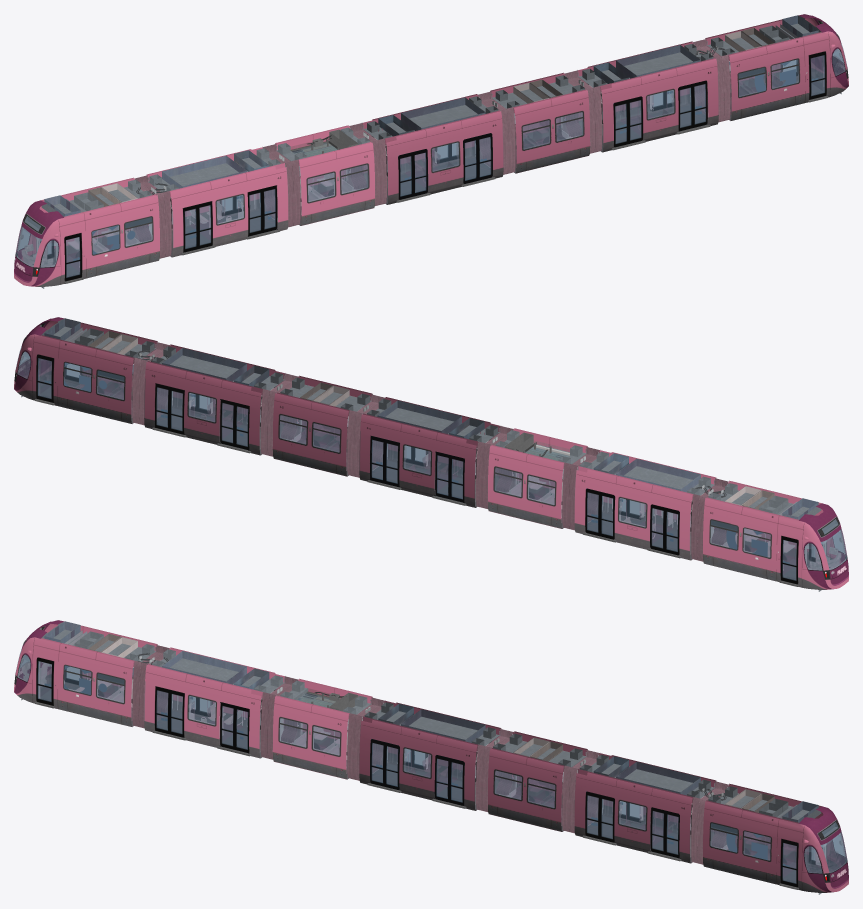
Rendered from tram_mobile.glb.
3 renders of one model, top to bottom at view 1: azimuth 30°, elevation 25°; view 2: azimuth 150°, elevation 25°; view 3: azimuth 330°, elevation 25°, orthographic.
Visible parts, largest first — view 1: glink_seg1_lod0_glink_exterior01_0, glink_seg1_lod0.001_glink_exterior02_0, glink_seg4_lod0_glink_exterior03_0, glink_seg2_lod0.001_glink_exterior02_0, glink_seg2_lod0_glink_exterior01_0, glink_seg5_lod0_glink_exterior02_0, glink_seg3_lod0_glink_exterior01_0, glink_seg1_window_lod0.001_glink_exterior01_0, glink_seg2_mirror_lod0.002_glink_exterior01_0, glink_seg2_mirror_lod0_glink_exterior01_0, glink_seg2_mirror_lod0.001_glink_exterior01_0, glink_seg1_window_lod0_glink_exterior01_0 (+13 smaller); view 2: glink_seg1_lod0_glink_exterior01_0, glink_seg1_lod0.001_glink_exterior02_0, glink_seg4_lod0_glink_exterior03_0, glink_seg2_lod0.001_glink_exterior02_0, glink_seg2_lod0_glink_exterior01_0, glink_seg5_lod0_glink_exterior02_0, glink_seg3_lod0_glink_exterior01_0, glink_seg1_window_lod0.001_glink_exterior01_0, glink_seg2_mirror_lod0.002_glink_exterior01_0, glink_seg2_mirror_lod0_glink_exterior01_0, glink_seg2_mirror_lod0.001_glink_exterior01_0, glink_seg1_window_lod0_glink_exterior01_0 (+13 smaller); view 3: glink_seg1_lod0.001_glink_exterior02_0, glink_seg1_lod0_glink_exterior01_0, glink_seg4_lod0_glink_exterior03_0, glink_seg2_lod0.001_glink_exterior02_0, glink_seg2_lod0_glink_exterior01_0, glink_seg5_lod0_glink_exterior02_0, glink_seg3_lod0_glink_exterior01_0, glink_seg1_window_lod0_glink_exterior01_0, glink_seg2_mirror_lod0.002_glink_exterior01_0, glink_seg2_mirror_lod0.001_glink_exterior01_0, glink_seg2_mirror_lod0_glink_exterior01_0, glink_seg1_window_lod0.001_glink_exterior01_0 (+13 smaller).
Boxes of the visible parts, left/top/right/bottom form: glink_seg1_lod0_glink_exterior01_0: left=14, top=177, right=159, bottom=286; glink_seg1_lod0.001_glink_exterior02_0: left=705, top=14, right=848, bottom=120; glink_seg4_lod0_glink_exterior03_0: left=362, top=94, right=503, bottom=204; glink_seg2_lod0.001_glink_exterior02_0: left=578, top=41, right=718, bottom=152; glink_seg2_lod0_glink_exterior01_0: left=146, top=147, right=288, bottom=257; glink_seg5_lod0_glink_exterior02_0: left=490, top=72, right=590, bottom=173; glink_seg3_lod0_glink_exterior01_0: left=275, top=125, right=374, bottom=225; glink_seg1_window_lod0.001_glink_exterior01_0: left=15, top=216, right=152, bottom=267; glink_seg2_mirror_lod0.002_glink_exterior01_0: left=348, top=93, right=508, bottom=204; glink_seg2_mirror_lod0_glink_exterior01_0: left=564, top=40, right=724, bottom=152; glink_seg2_mirror_lod0.001_glink_exterior01_0: left=133, top=145, right=293, bottom=257; glink_seg1_window_lod0_glink_exterior01_0: left=729, top=43, right=847, bottom=96; glink_seg1_lod0_glink_exterior01_0: left=703, top=480, right=848, bottom=589; glink_seg1_lod0.001_glink_exterior02_0: left=14, top=317, right=157, bottom=423; glink_seg4_lod0_glink_exterior03_0: left=359, top=397, right=500, bottom=507; glink_seg2_lod0.001_glink_exterior02_0: left=144, top=344, right=284, bottom=455; glink_seg2_lod0_glink_exterior01_0: left=574, top=450, right=716, bottom=560; glink_seg5_lod0_glink_exterior02_0: left=272, top=375, right=372, bottom=476; glink_seg3_lod0_glink_exterior01_0: left=488, top=428, right=587, bottom=528; glink_seg1_window_lod0.001_glink_exterior01_0: left=710, top=519, right=847, bottom=570; glink_seg2_mirror_lod0.002_glink_exterior01_0: left=354, top=396, right=514, bottom=507; glink_seg2_mirror_lod0_glink_exterior01_0: left=139, top=343, right=298, bottom=455; glink_seg2_mirror_lod0.001_glink_exterior01_0: left=569, top=448, right=727, bottom=560; glink_seg1_window_lod0_glink_exterior01_0: left=15, top=345, right=133, bottom=399; glink_seg1_lod0.001_glink_exterior02_0: left=703, top=783, right=848, bottom=892; glink_seg1_lod0_glink_exterior01_0: left=14, top=620, right=157, bottom=726; glink_seg4_lod0_glink_exterior03_0: left=359, top=700, right=501, bottom=810; glink_seg2_lod0.001_glink_exterior02_0: left=574, top=753, right=716, bottom=863; glink_seg2_lod0_glink_exterior01_0: left=144, top=647, right=284, bottom=758; glink_seg5_lod0_glink_exterior02_0: left=488, top=731, right=587, bottom=831; glink_seg3_lod0_glink_exterior01_0: left=272, top=678, right=372, bottom=779; glink_seg1_window_lod0_glink_exterior01_0: left=710, top=822, right=847, bottom=873; glink_seg2_mirror_lod0.002_glink_exterior01_0: left=354, top=699, right=514, bottom=810; glink_seg2_mirror_lod0.001_glink_exterior01_0: left=138, top=646, right=298, bottom=758; glink_seg2_mirror_lod0_glink_exterior01_0: left=569, top=751, right=727, bottom=863; glink_seg1_window_lod0.001_glink_exterior01_0: left=15, top=648, right=133, bottom=702.
Bounding box in the file's own units: 45.04 × 3.71 × 2.86.
4 materials, 4 textured.
